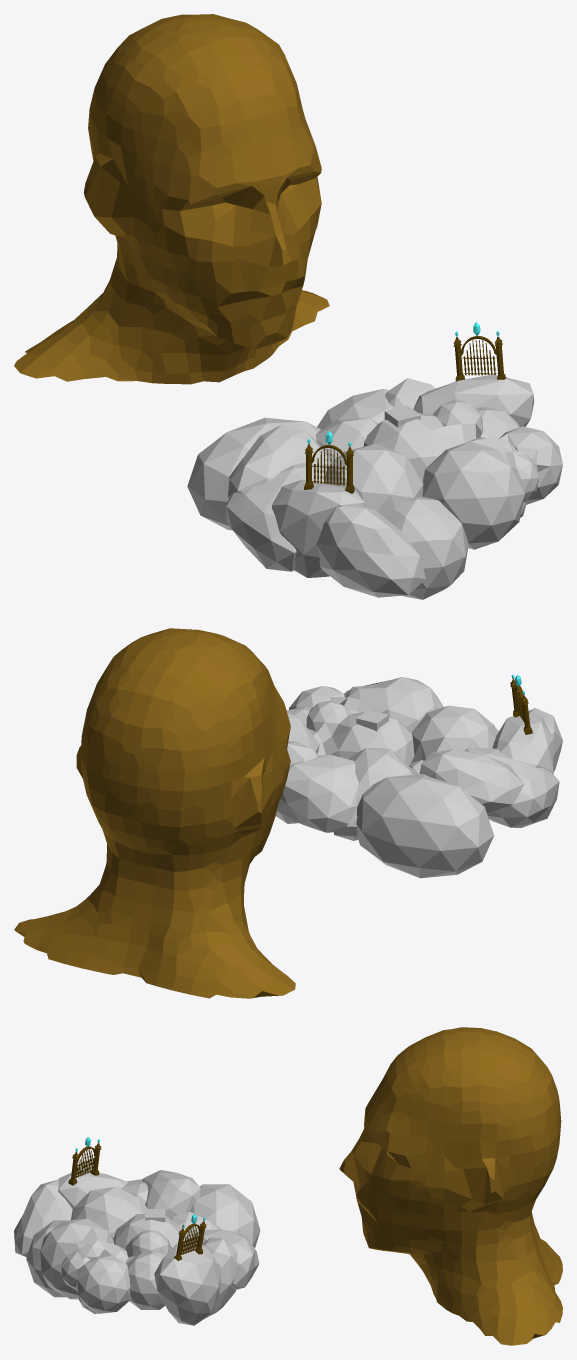
The model's file is goldengates5levels.fbx.
3 renders of one model, top to bottom at view 1: azimuth 30°, elevation 25°; view 2: azimuth 150°, elevation 25°; view 3: azimuth 270°, elevation 25°, orthographic. The views are drawn at different scales.
Visible parts, largest first — view 1: FinalBaseMesh; view 2: FinalBaseMesh; view 3: FinalBaseMesh.
Part boxes in pixels (x1=…): FinalBaseMesh: x1=14, y1=14, x2=562, y2=599; FinalBaseMesh: x1=14, y1=628, x2=562, y2=998; FinalBaseMesh: x1=14, y1=1027, x2=562, y2=1345.
Bounding box in the file's own units: 1370 × 1437 × 2527.
Materials: 1 (1 with a texture image).
